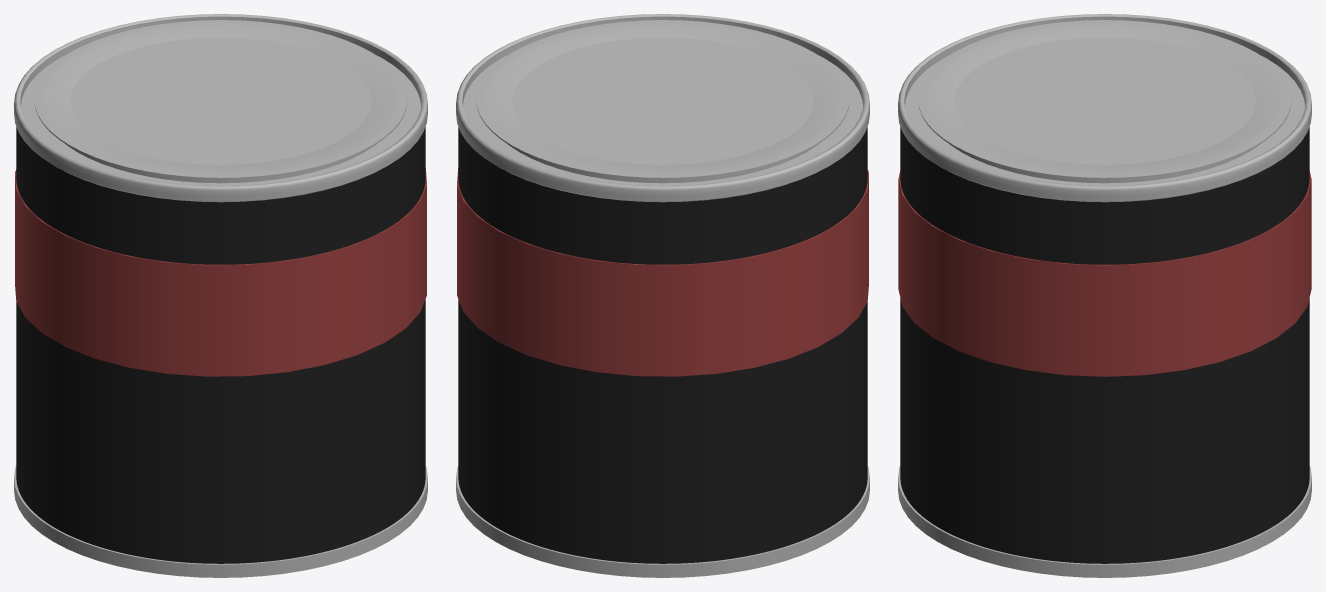
Rendered from tar_can.fbx.
3 renders of one model, left to right at view 1: azimuth 30°, elevation 25°; view 2: azimuth 150°, elevation 25°; view 3: azimuth 270°, elevation 25°, orthographic.
Parts seen in each view (by area): view 1: Cylinder, Cylinder.003, Cylinder.001, Plane, Cylinder.002; view 2: Cylinder, Cylinder.003, Cylinder.001, Plane, Cylinder.002; view 3: Cylinder, Cylinder.003, Cylinder.001, Plane, Cylinder.002.
Part boxes in pixels (x1,y1,x2,y2): Cylinder: [16, 127, 425, 563]; Cylinder.003: [15, 168, 426, 376]; Cylinder.001: [14, 14, 427, 202]; Plane: [70, 37, 371, 164]; Cylinder.002: [14, 466, 427, 577]; Cylinder: [458, 127, 867, 563]; Cylinder.003: [457, 168, 868, 376]; Cylinder.001: [456, 14, 869, 202]; Plane: [512, 37, 813, 164]; Cylinder.002: [456, 466, 869, 577]; Cylinder: [900, 127, 1309, 563]; Cylinder.003: [898, 171, 1311, 376]; Cylinder.001: [898, 14, 1311, 202]; Plane: [954, 37, 1255, 164]; Cylinder.002: [898, 466, 1311, 577].
Bounding box in the file's own units: 27.64 × 28.85 × 27.64.
